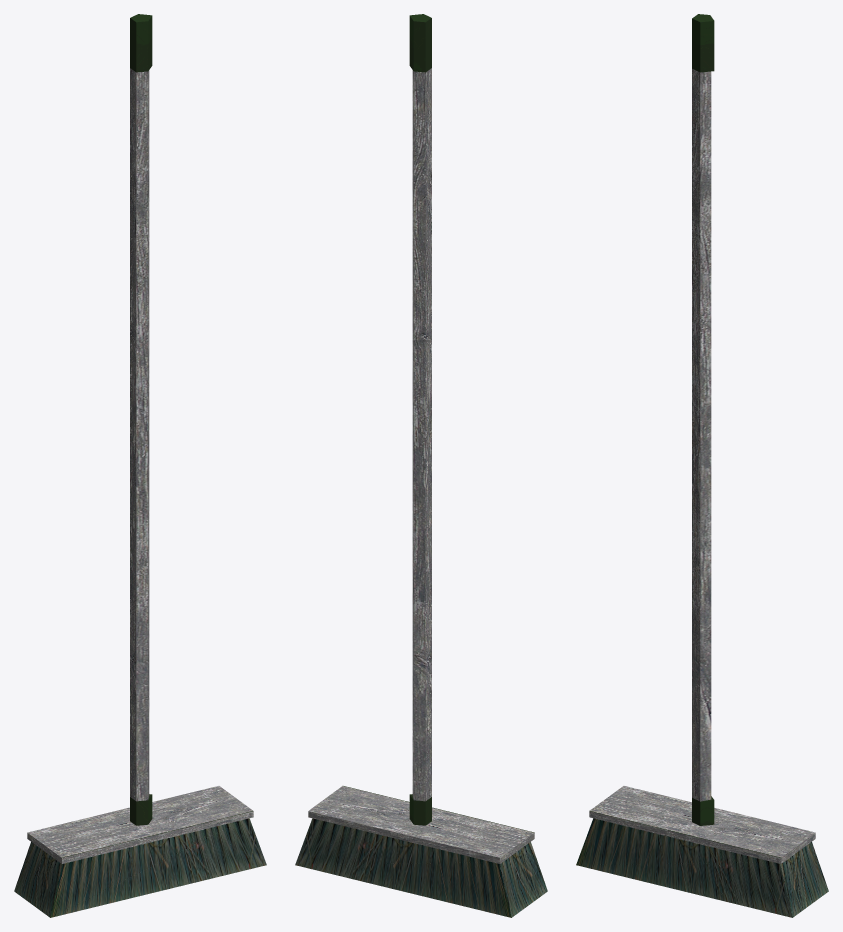
The model's file is broom.fbx.
The picture shows the model from 3 angles, left to right: view 1: azimuth 30°, elevation 25°; view 2: azimuth 150°, elevation 25°; view 3: azimuth 330°, elevation 25°; orthographic projection.
Visible parts, largest first — view 1: broom_Layer1; view 2: broom_Layer1; view 3: broom_Layer1.
Part boxes in pixels (<box>): broom_Layer1: <box>14,14,266,917</box>; broom_Layer1: <box>295,14,547,917</box>; broom_Layer1: <box>576,14,828,917</box>.
Bounding box in the file's own units: 36.1 × 137 × 10.48.
Materials: 1 (1 with a texture image).
